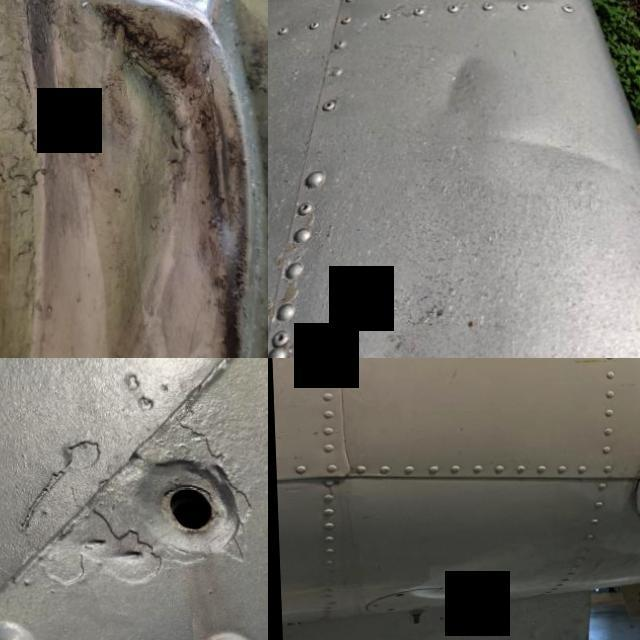Crack: (624, 417, 640, 490)
Dent: (0, 0, 268, 358), (475, 98, 640, 206), (412, 30, 510, 124)
Missing_Fastener: (95, 425, 268, 588), (391, 594, 400, 598)
